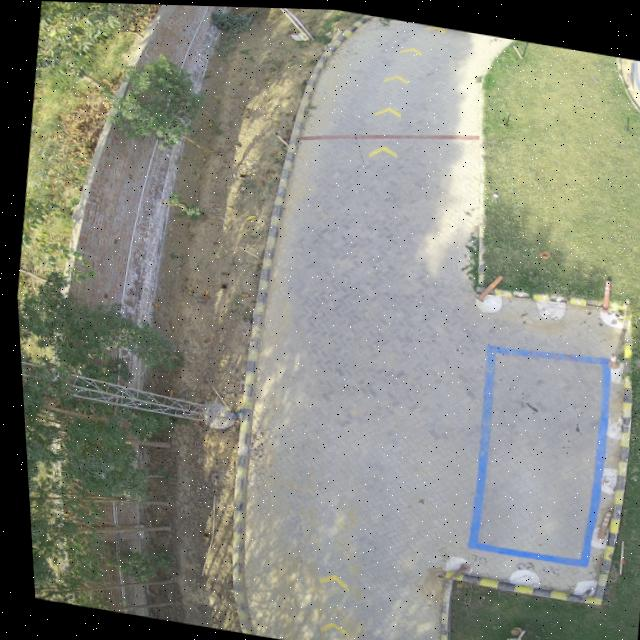No Car: (14, 1, 640, 640)
